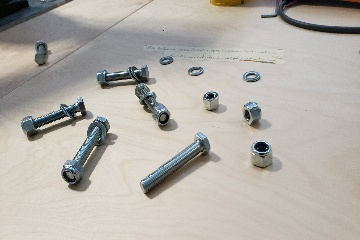Bolt: (132, 129, 219, 197)
FalseAssembly: (18, 95, 85, 141), (32, 37, 51, 70)
FinishedAssembly: (57, 114, 113, 187), (132, 83, 176, 127), (97, 64, 151, 84)
Nut: (249, 138, 275, 170), (241, 102, 263, 126), (199, 90, 224, 110)
Washer: (242, 70, 261, 83), (187, 67, 204, 76), (160, 57, 173, 65)
